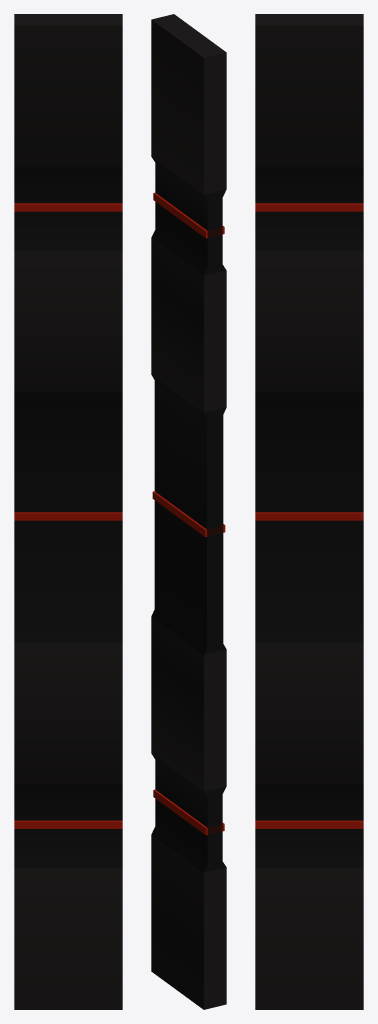
3 renders of one model, left to right at view 1: azimuth 90°, elevation 25°; view 2: azimuth 210°, elevation 25°; view 3: azimuth 270°, elevation 25°, orthographic. The views are drawn at different scales.
Parts seen in each view (by area): view 1: 2; view 2: 2; view 3: 2.
Part boxes in pixels (x1,y1,x2,y2): 2: (14, 14, 122, 1009); 2: (151, 14, 226, 1009); 2: (255, 14, 363, 1009).
Bounding box in the file's own units: 100 × 4000 × 400.
